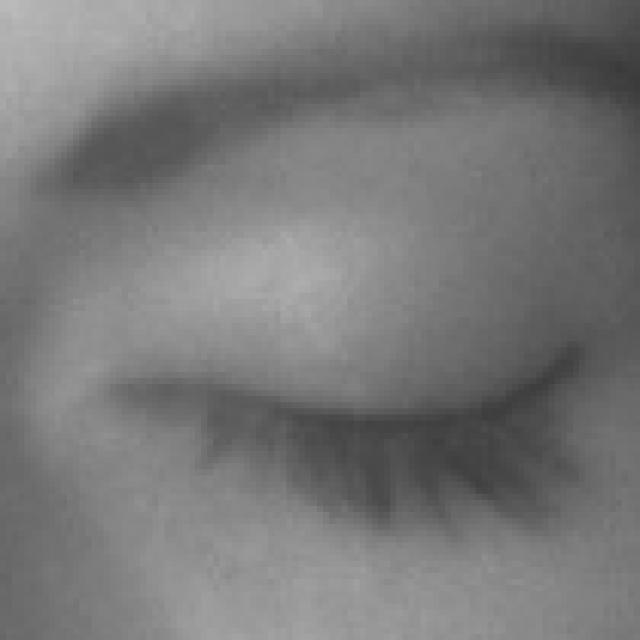Eyeclosed: (164, 170, 585, 640)
